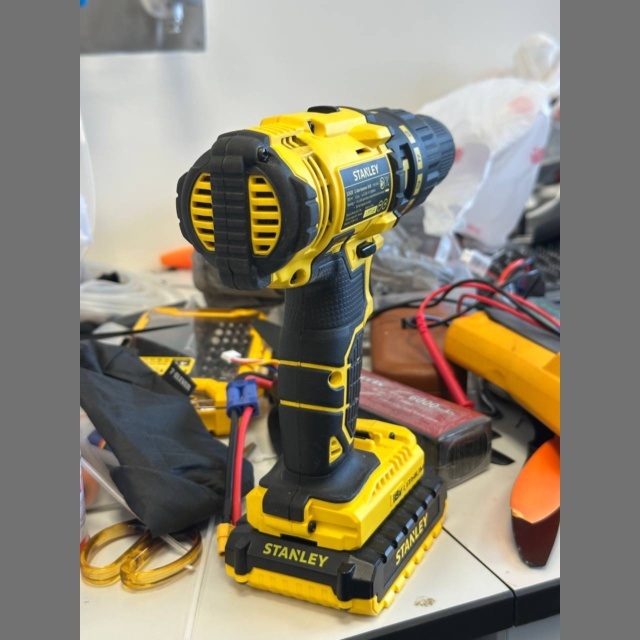drill: (177, 106, 454, 614)
